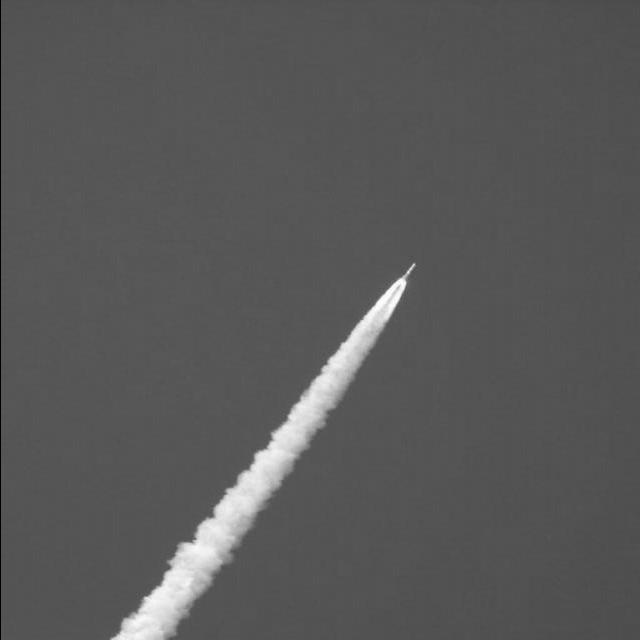missile: (401, 260, 418, 280)
